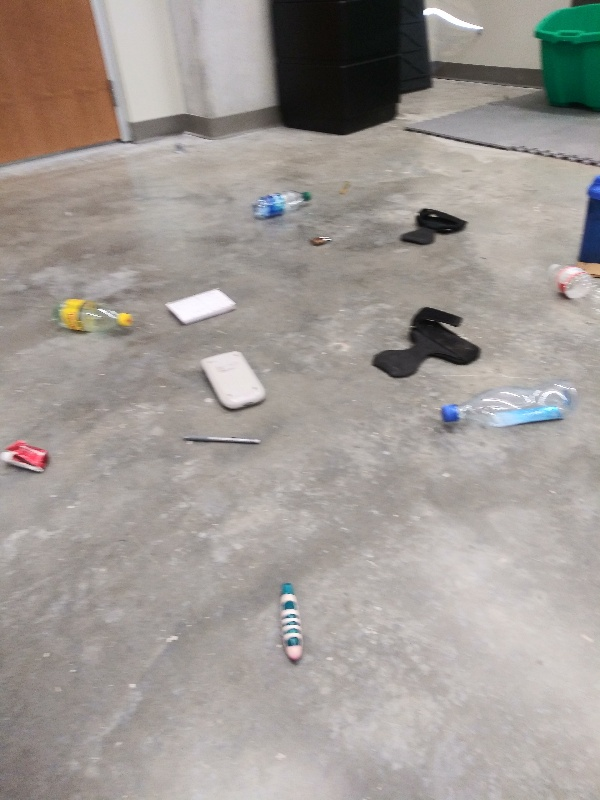bottle: (439, 375, 580, 434), (44, 293, 138, 336), (542, 259, 600, 324), (249, 187, 316, 223)
